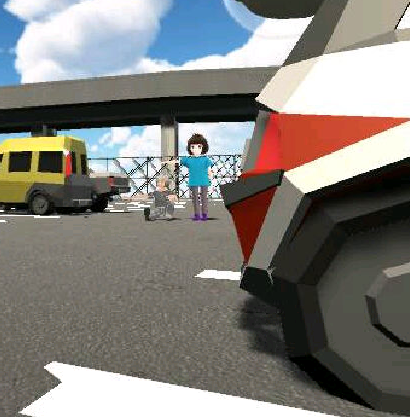doubleP_left: (120, 133, 215, 220)
